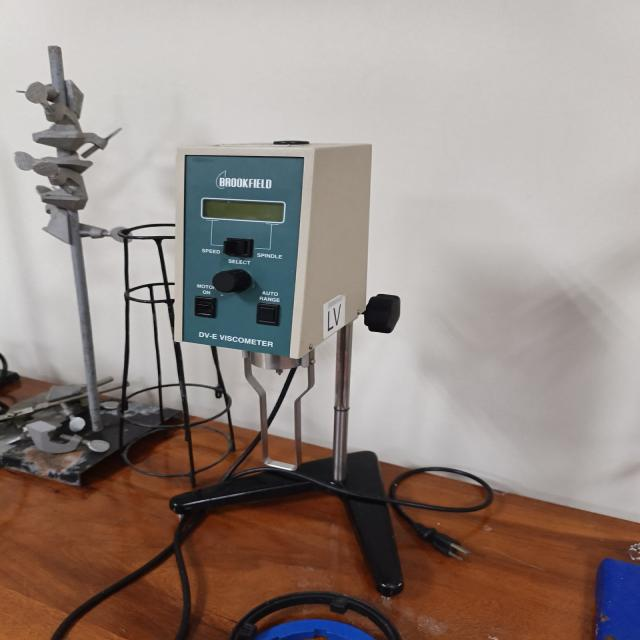Viscosimetro Rotacional Digital Brookfield: (171, 140, 493, 596)
